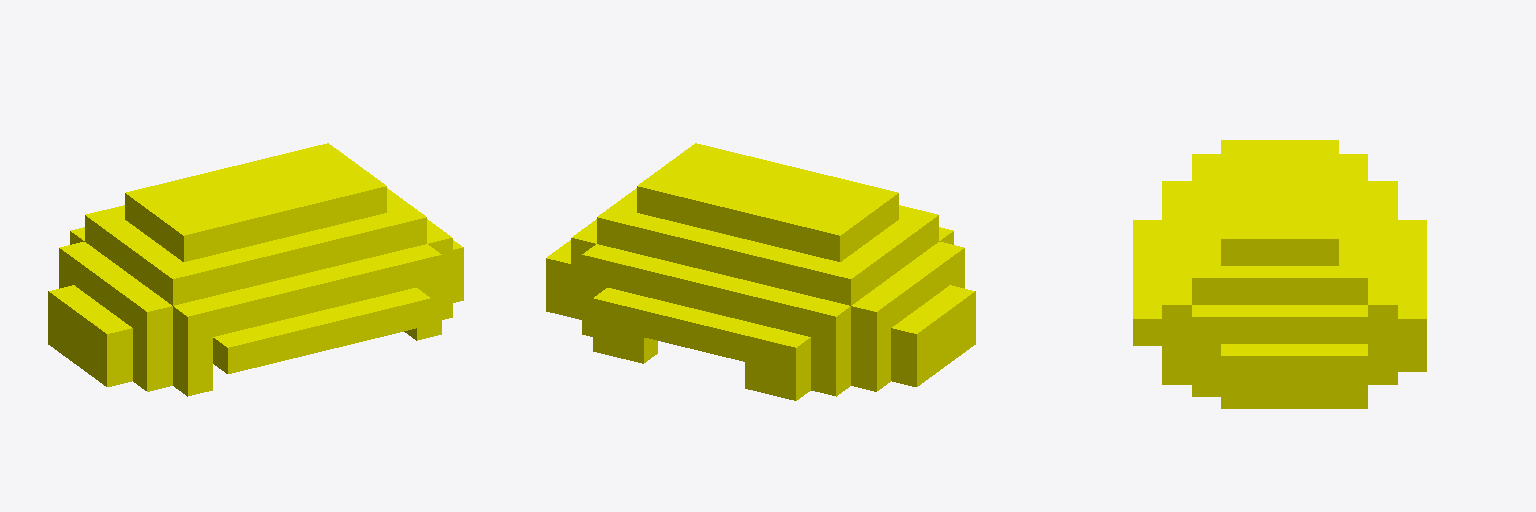
3 renders of one model, left to right at view 1: azimuth 30°, elevation 25°; view 2: azimuth 150°, elevation 25°; view 3: azimuth 270°, elevation 25°, orthographic.
Parts seen in each view (by area): view 1: object 1; view 2: object 1; view 3: object 1.
Boxes of the visible parts, x1=… form: object 1: x1=48, y1=143, x2=463, y2=396; object 1: x1=546, y1=143, x2=975, y2=400; object 1: x1=1133, y1=140, x2=1426, y2=408.
Bounding box in the file's own units: 1.4 × 0.5 × 1.
1 materials, 1 textured.